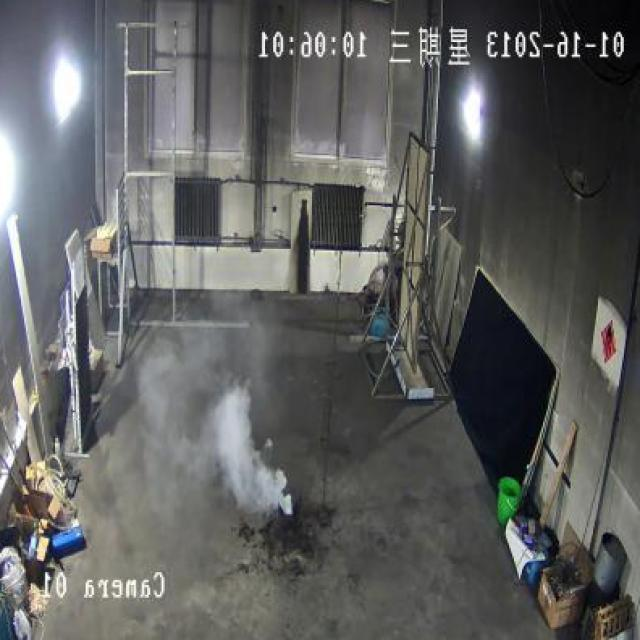fire: (200, 366, 294, 518)
